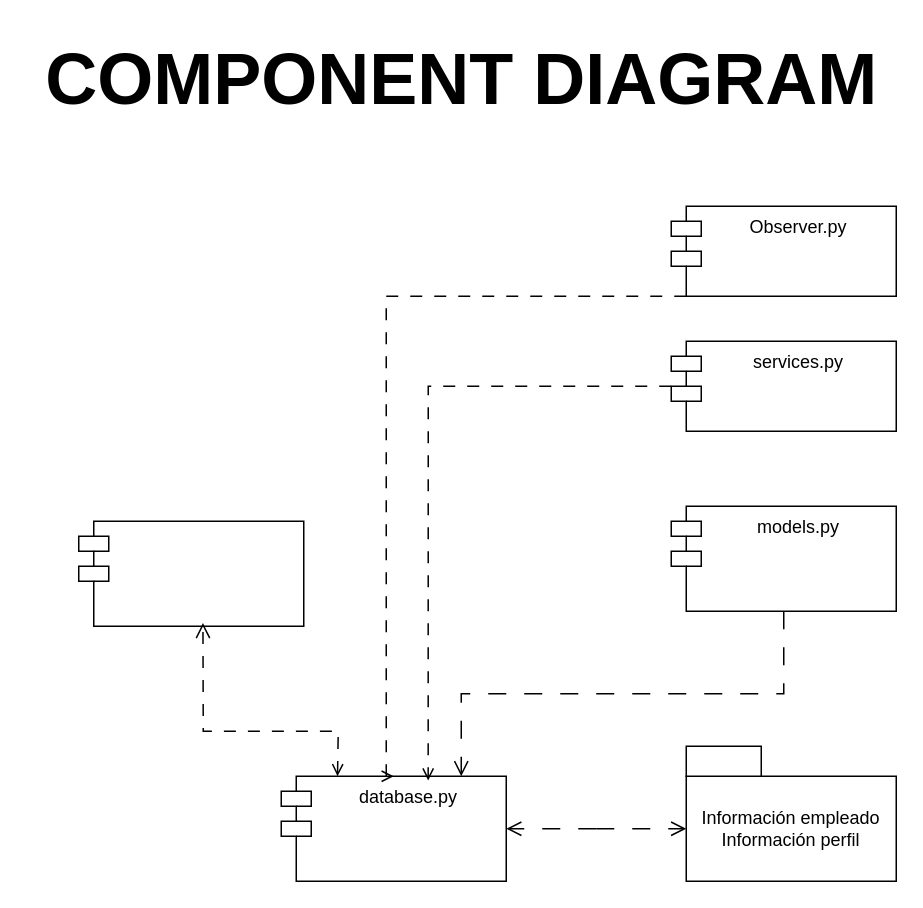
The diagram is 923 pixels wide and 908 high, and some of its shapes have lost their labels. The box of each missing label's shape, as (x1, y1, x2, y2) in pixels:
DB: (685, 745, 761, 776)
main.py: (77, 520, 304, 626)
